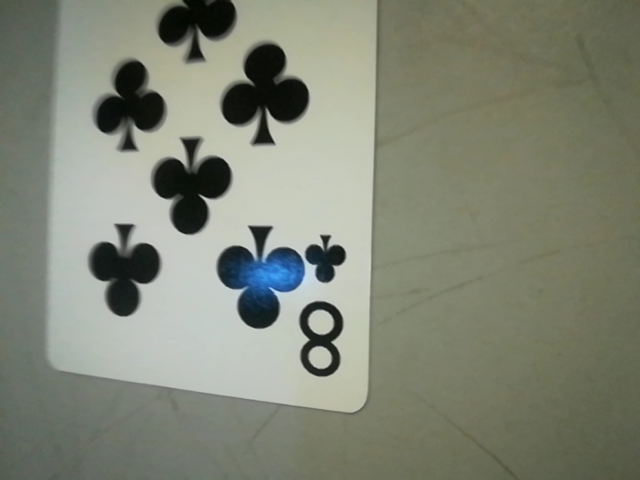mh 8: (292, 229, 365, 391)
